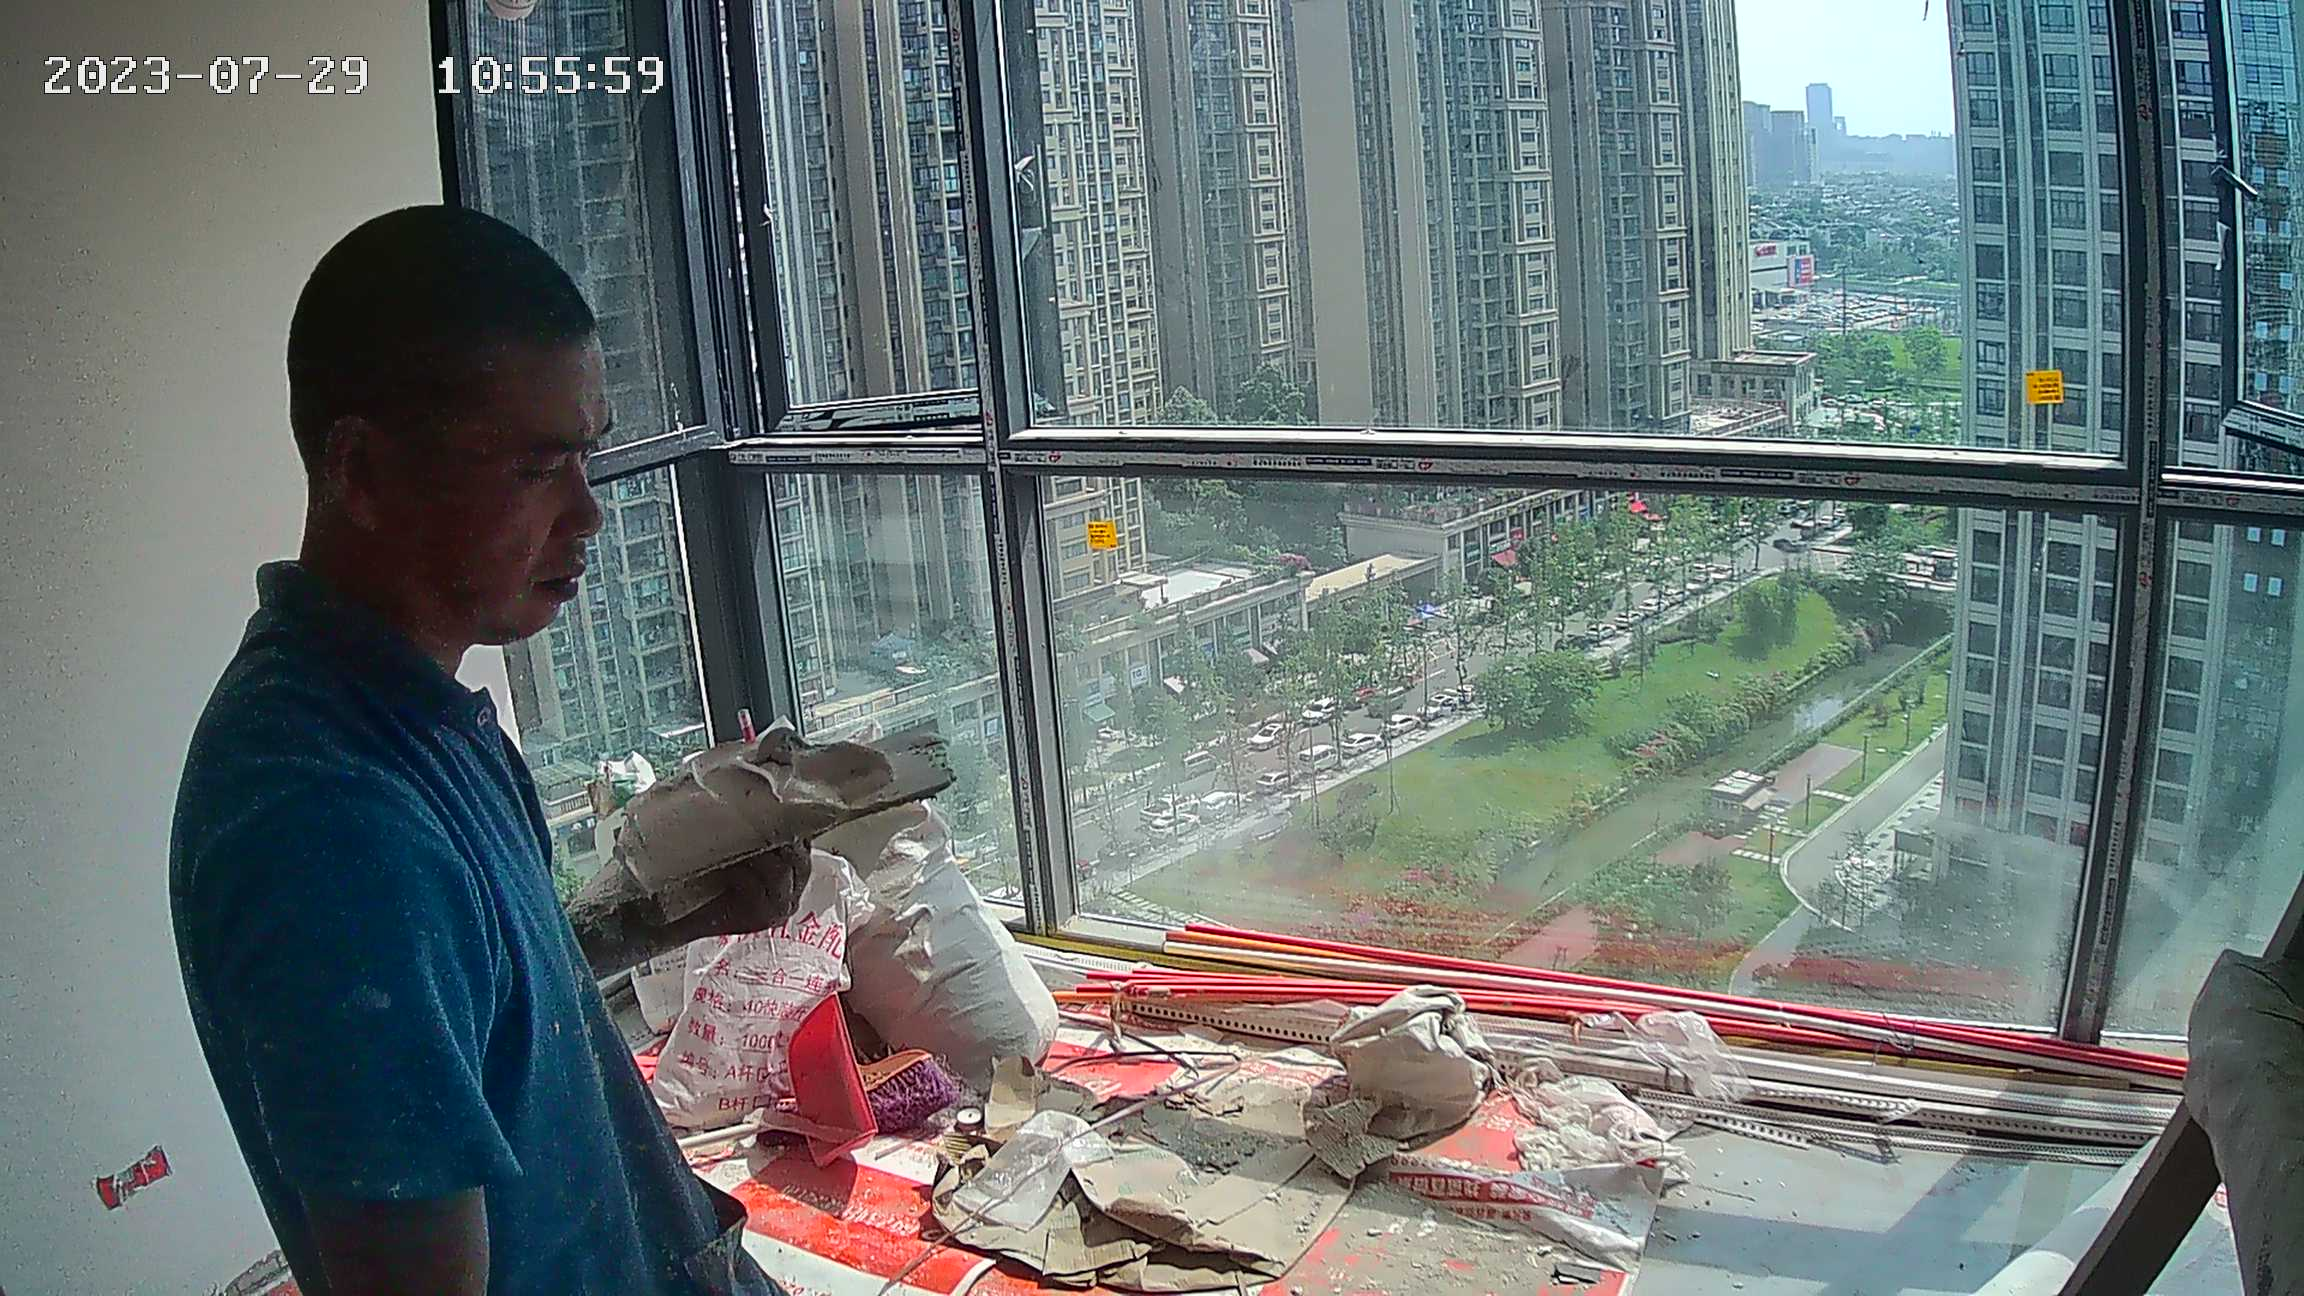people: (171, 200, 798, 1295)
window: (448, 1, 2282, 1072)
